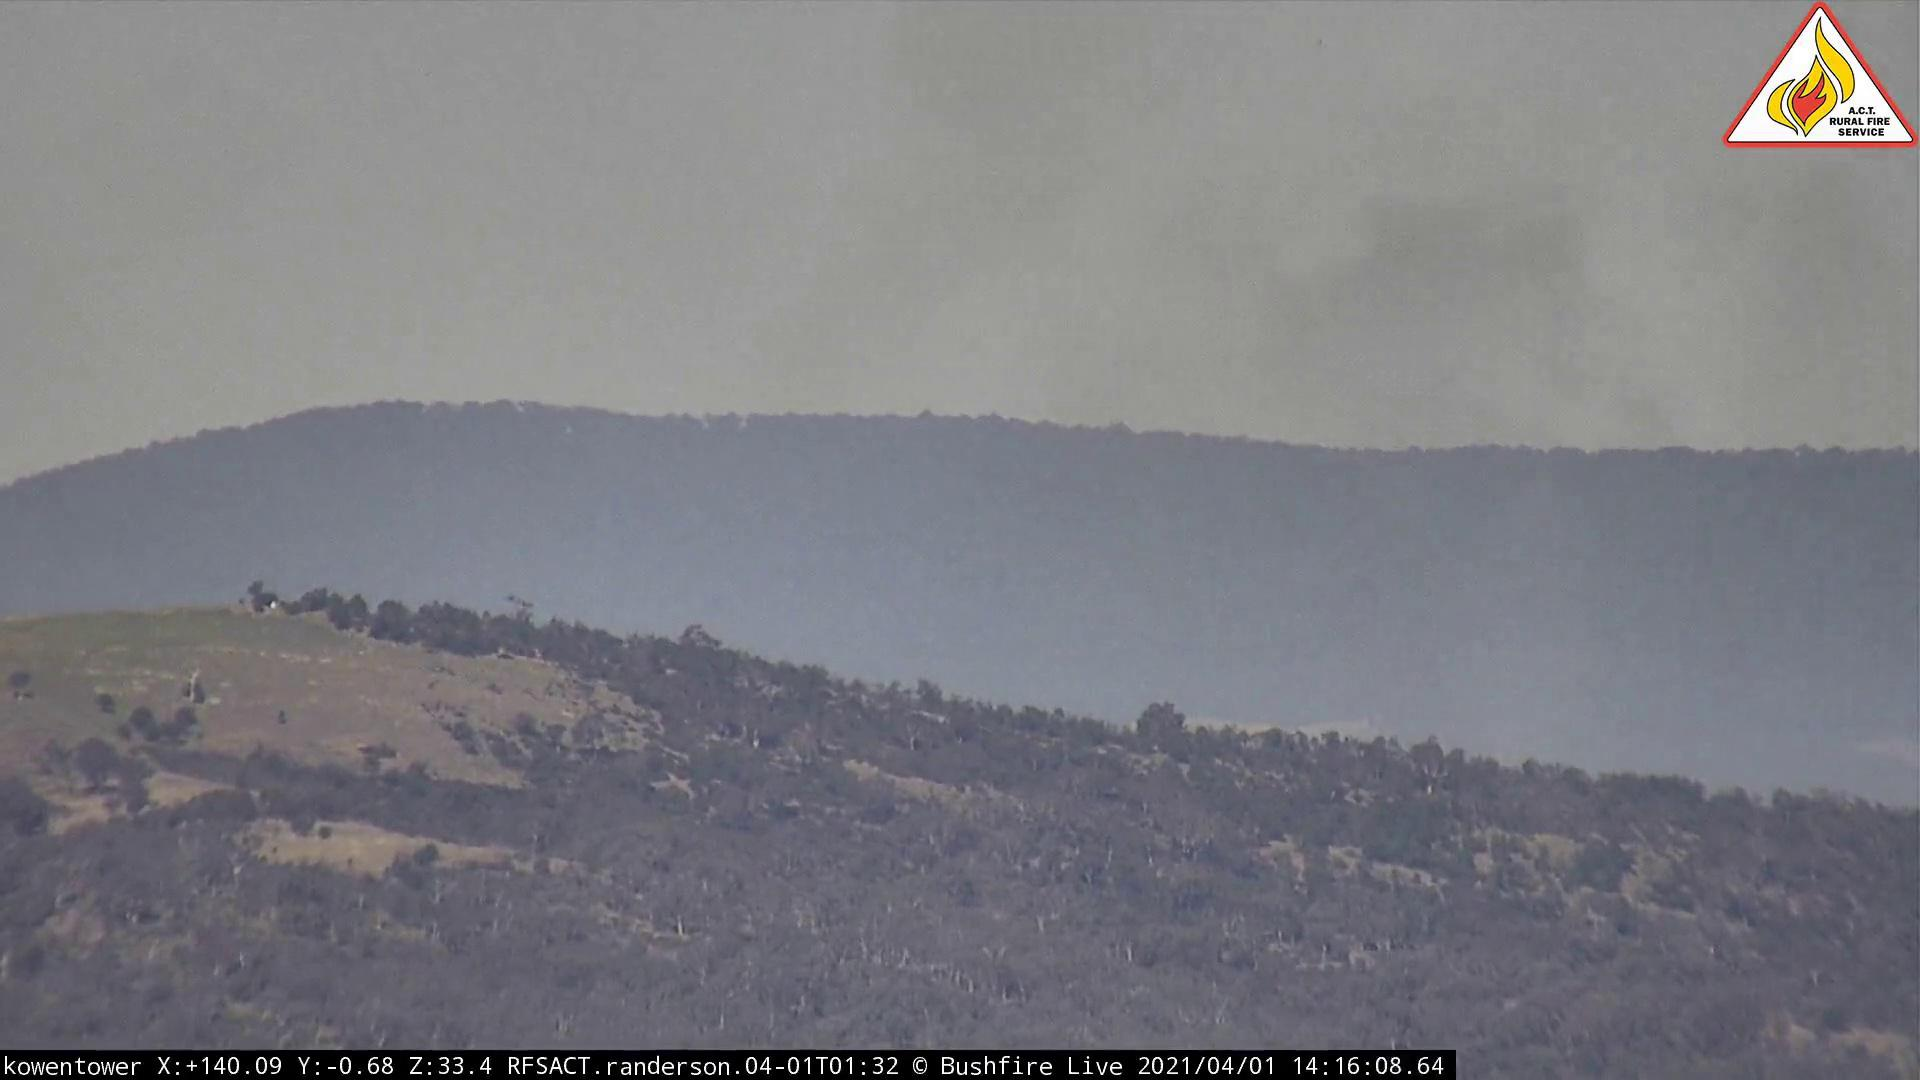Smoke: (741, 3, 1701, 533)
